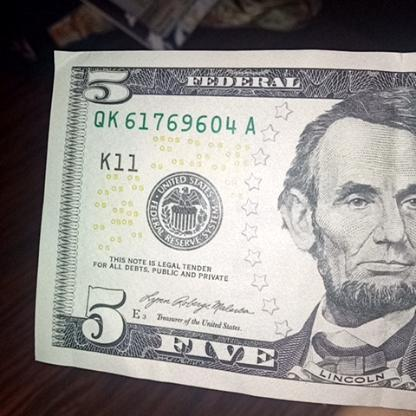five-front: (30, 49, 416, 406)
